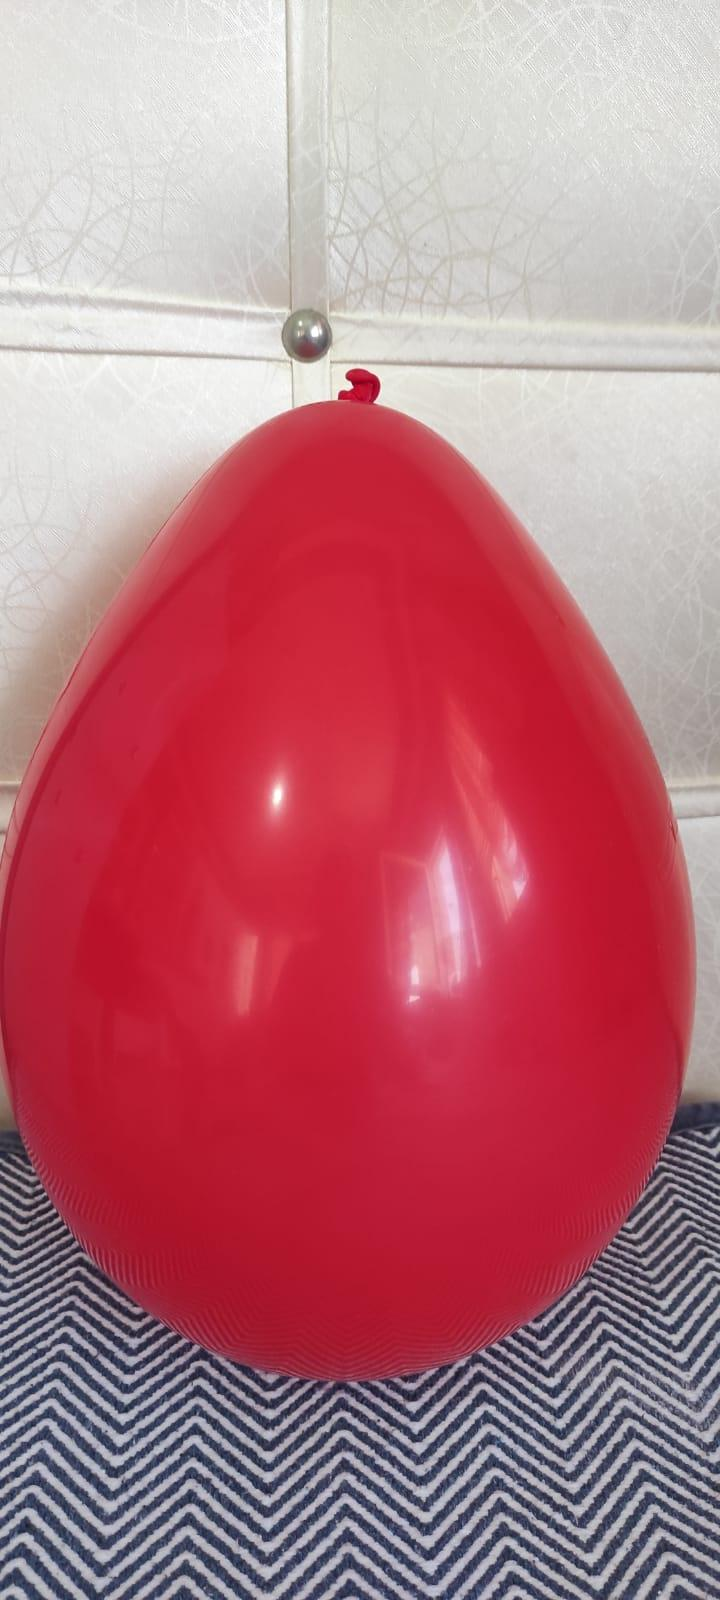red: (1, 351, 699, 1388)
